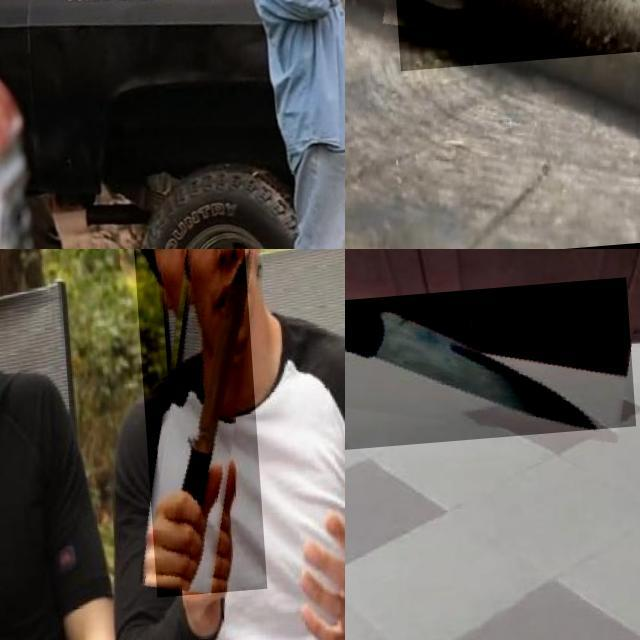-: (345, 285, 630, 455), (376, 0, 640, 177), (131, 249, 260, 603)
gun-knife-thesis - v11 Yolov5 augmented: (0, 0, 134, 66), (151, 0, 220, 40)
